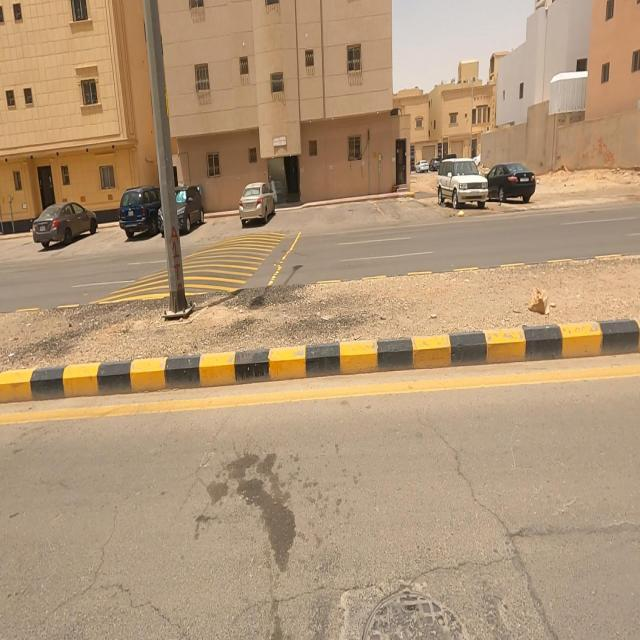Graffiti: (582, 135, 618, 168)
